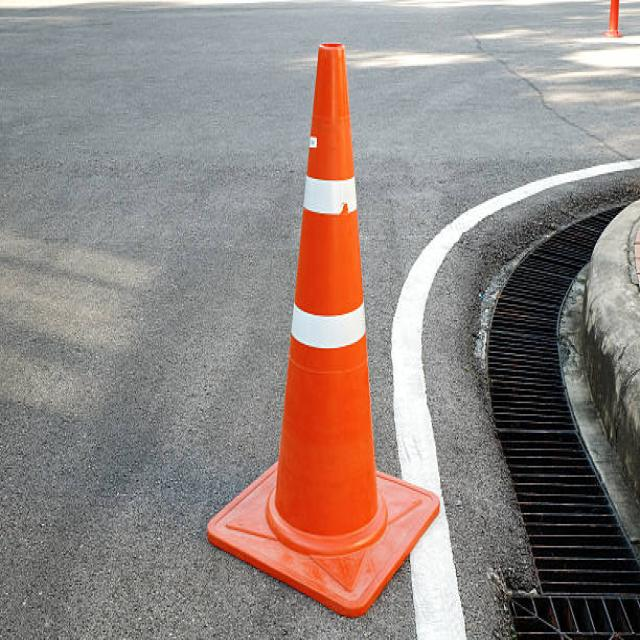Traffic Cone: (201, 0, 446, 615)
